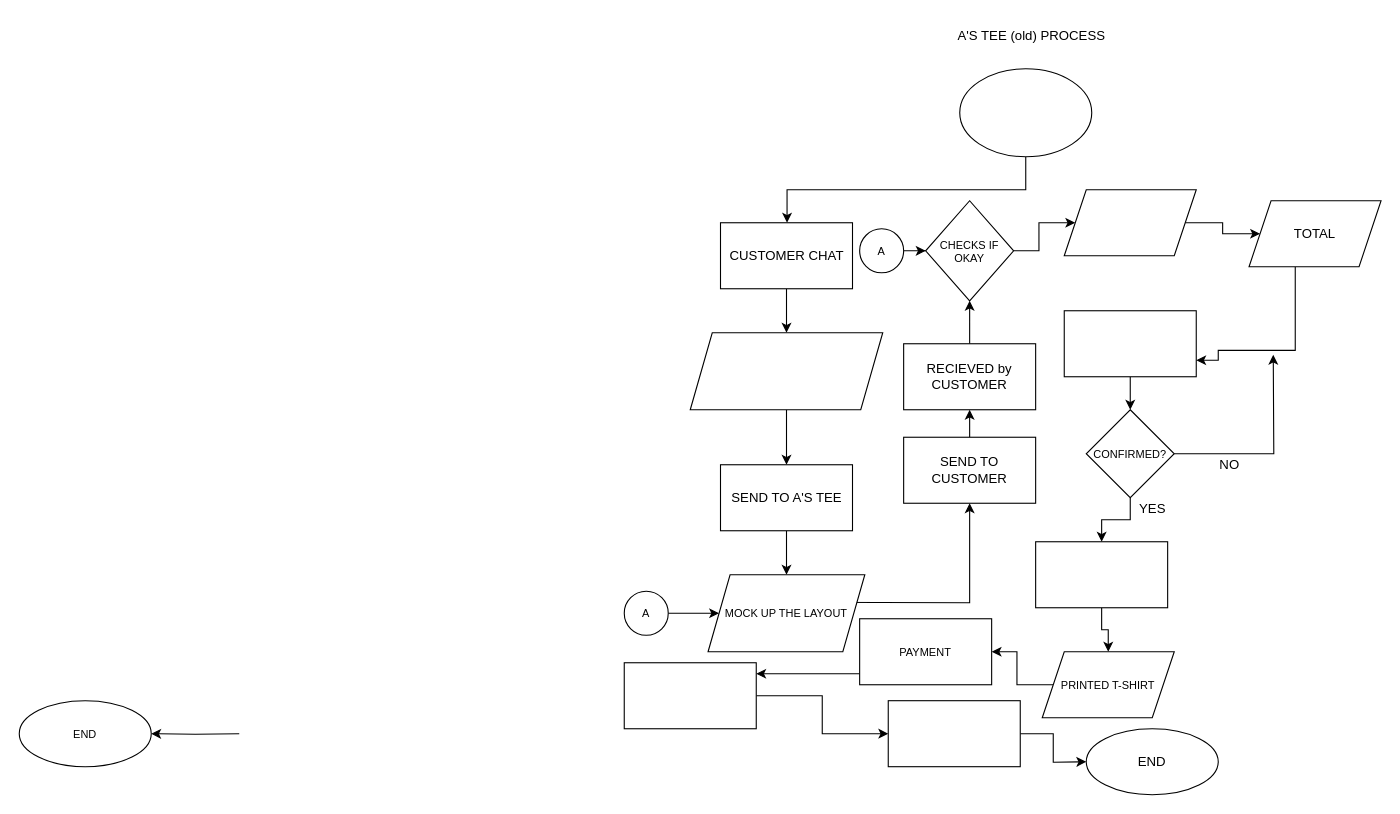
This 1400x814 diagram has some shape labels left out. Each missing label, with the centre of its shape:
"BARGAIN" belongs at (1129,343).
"CUSTOMER INFO" belongs at (689,695).
"CUSTOMER: design, layout" belongs at (786,371).
"PROCEED TO PRINTING" belongs at (1101,574).
"QTY, PRICE" belongs at (1129,222).
"SEND" belongs at (953,733).
"START" belongs at (1025,112).
